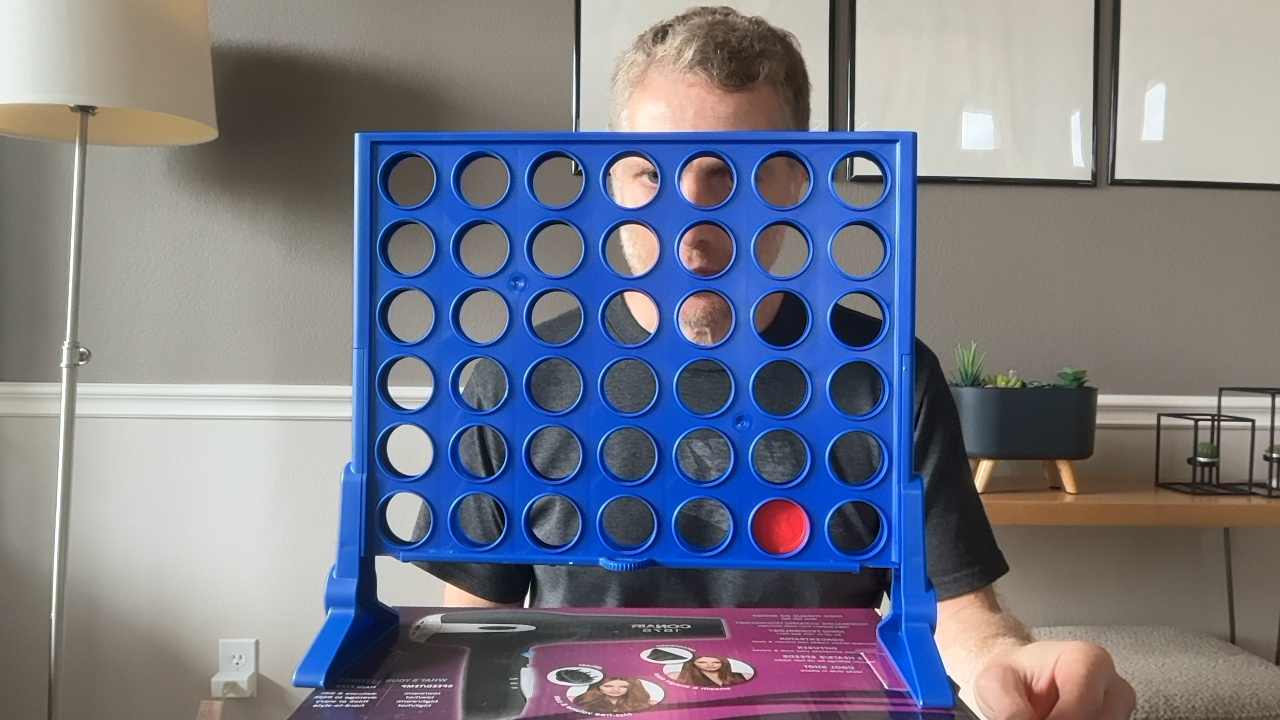red piece: (751, 499, 809, 554)
